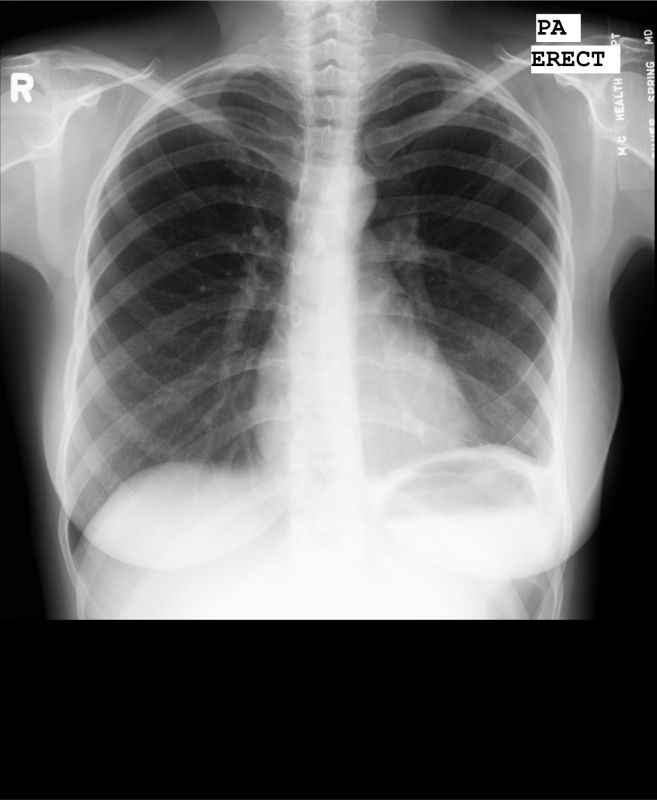Pleural Effusion: (452, 456, 600, 575)
